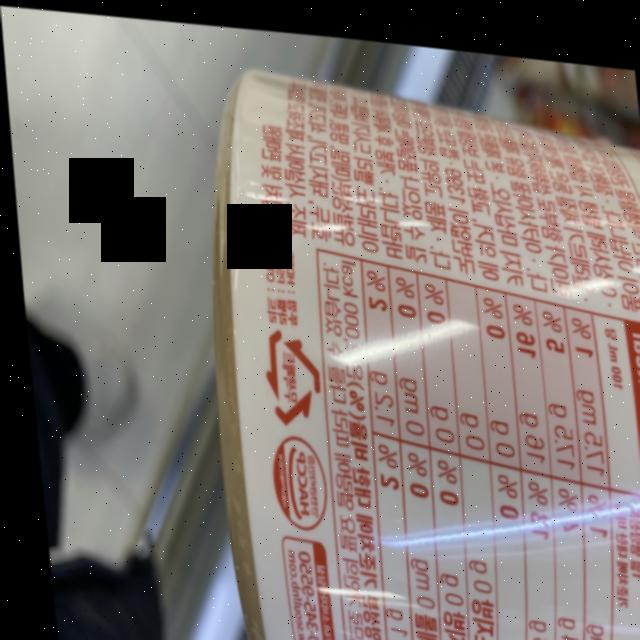ColorlessPET: (254, 317, 318, 422)
